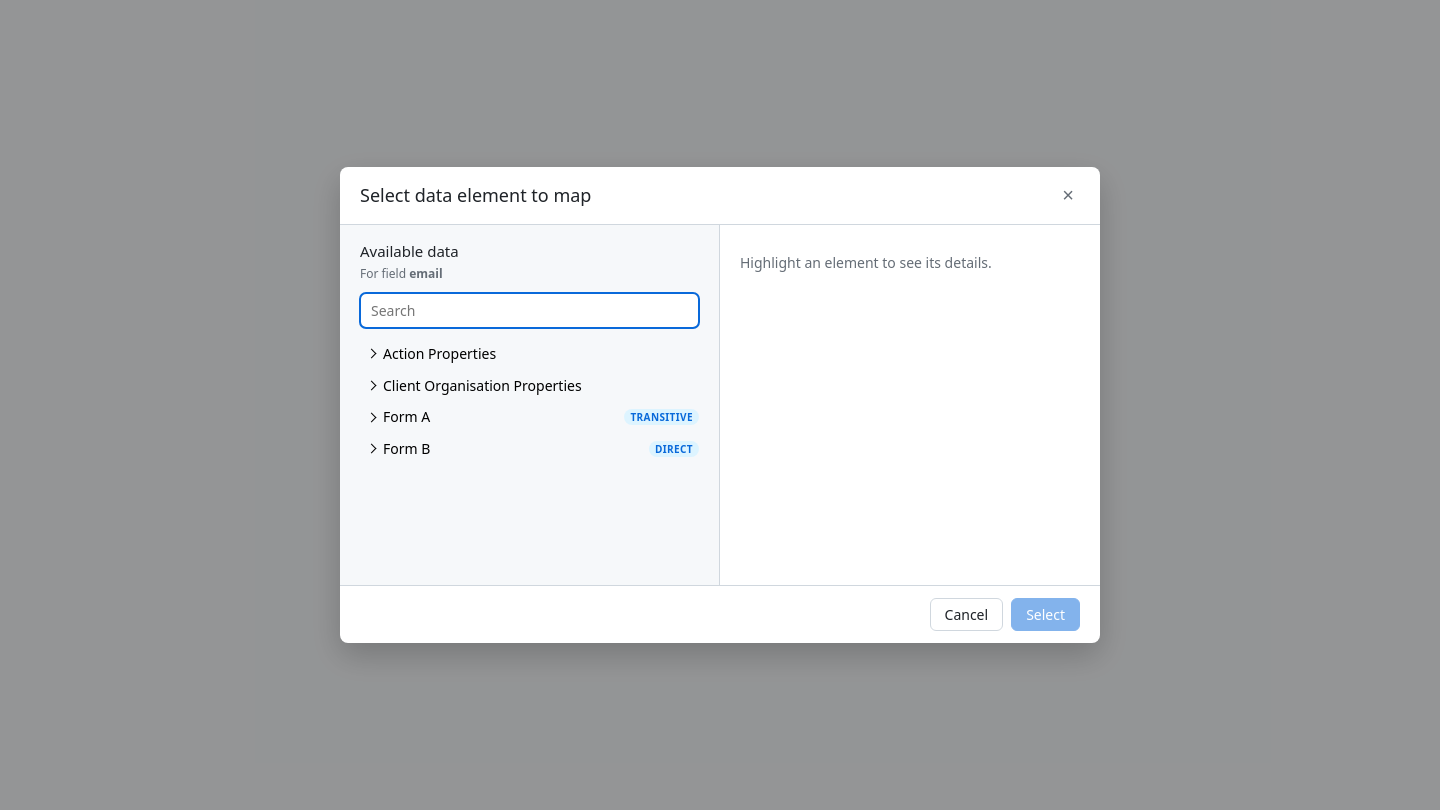
Test: DataPicker › search matches a group by its label and says when nothing matches
Type "client" into the search field at (530, 310), box [360, 293, 699, 328]
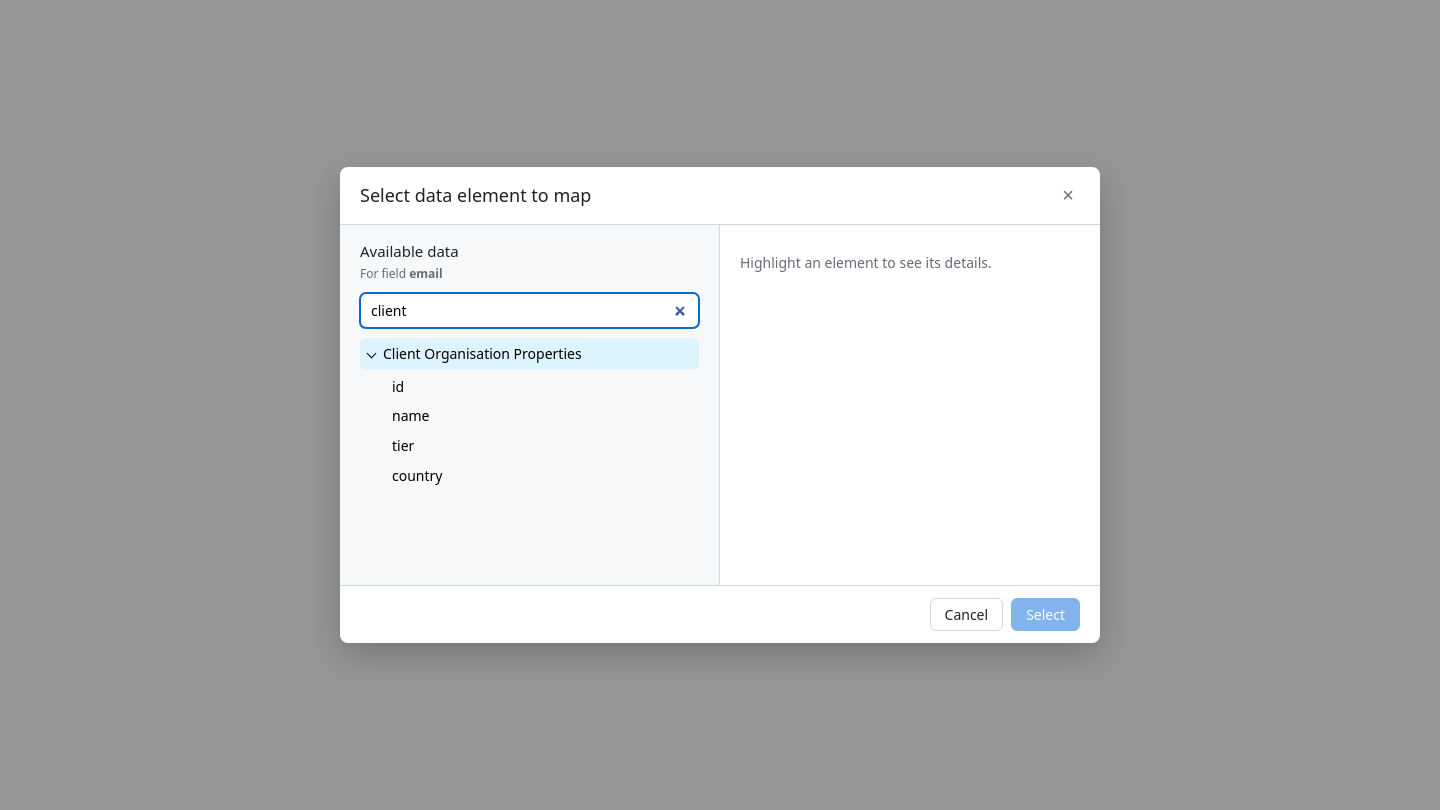
Check: the button "tier" is shown, box [384, 431, 699, 461]
Replace the text in the search field with "zzz" at (530, 310), box [360, 293, 699, 328]
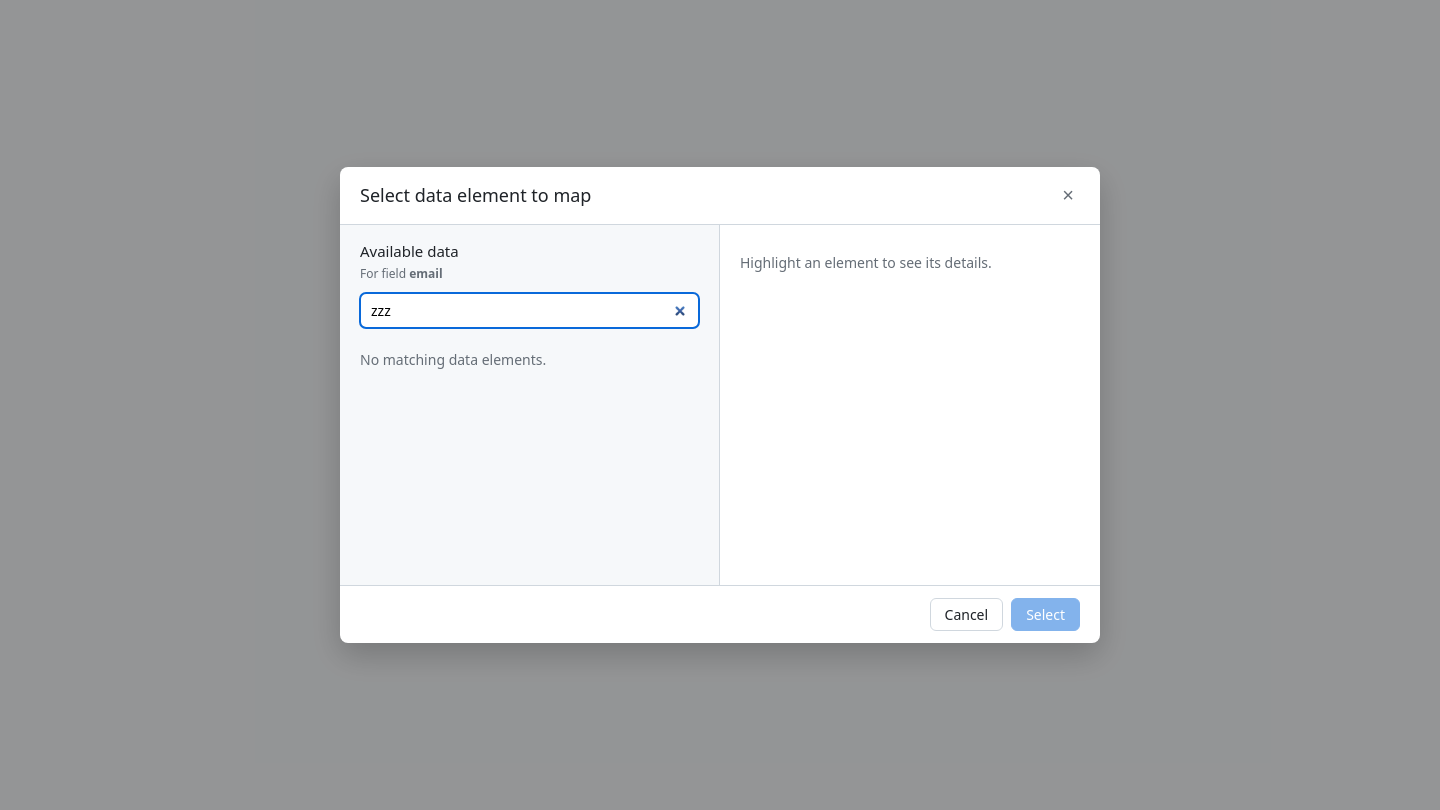
Check: the text "No matching data elements." is shown, box [360, 350, 546, 369]
